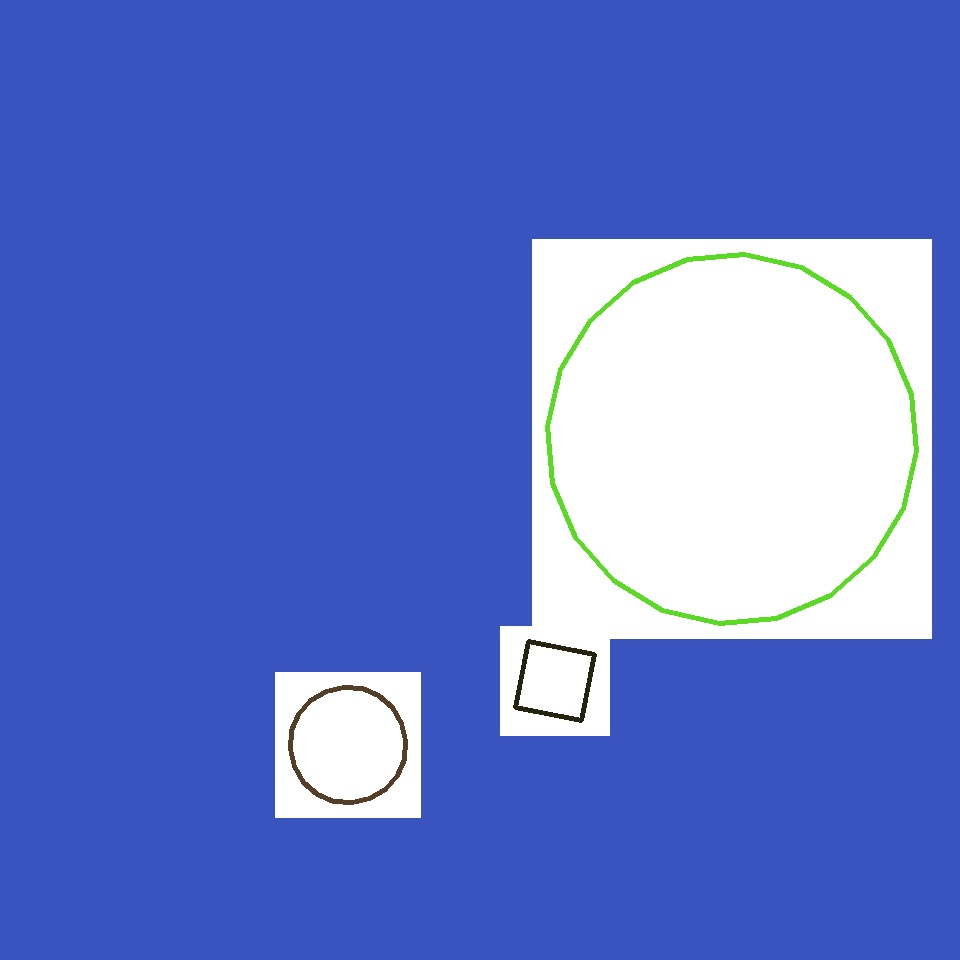circle: (401, 51, 687, 349), (543, 431, 775, 660)
square: (516, 642, 594, 720)
triangle: (548, 254, 916, 624), (184, 640, 476, 931), (290, 687, 406, 802)
